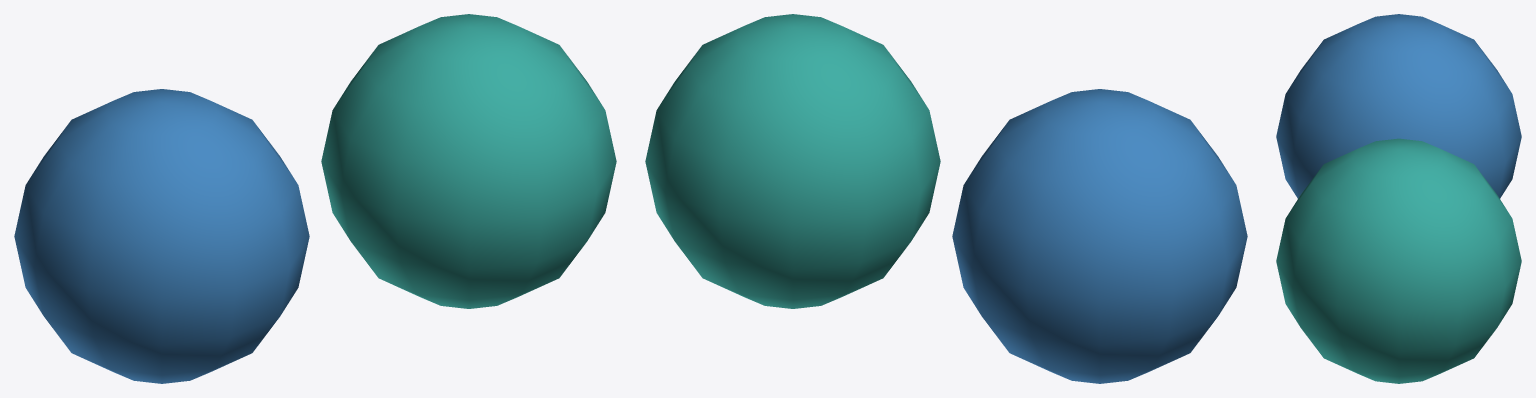
The model's file is morph-a.glb.
3 renders of one model, left to right at view 1: azimuth 30°, elevation 25°; view 2: azimuth 150°, elevation 25°; view 3: azimuth 270°, elevation 25°, orthographic. The views are drawn at different scales.
Parts seen in each view (by area): view 1: cortex.left, cortex.right; view 2: cortex.left, cortex.right; view 3: cortex.right, cortex.left.
Boxes of the visible parts, box(x1,y1,x2,y2) form: cortex.left: box(14, 89, 309, 383); cortex.right: box(321, 14, 616, 308); cortex.left: box(952, 89, 1247, 383); cortex.right: box(645, 14, 940, 308); cortex.right: box(1276, 138, 1521, 383); cortex.left: box(1276, 14, 1521, 198).
Bounding box in the file's own units: 4.4 × 2 × 2.
